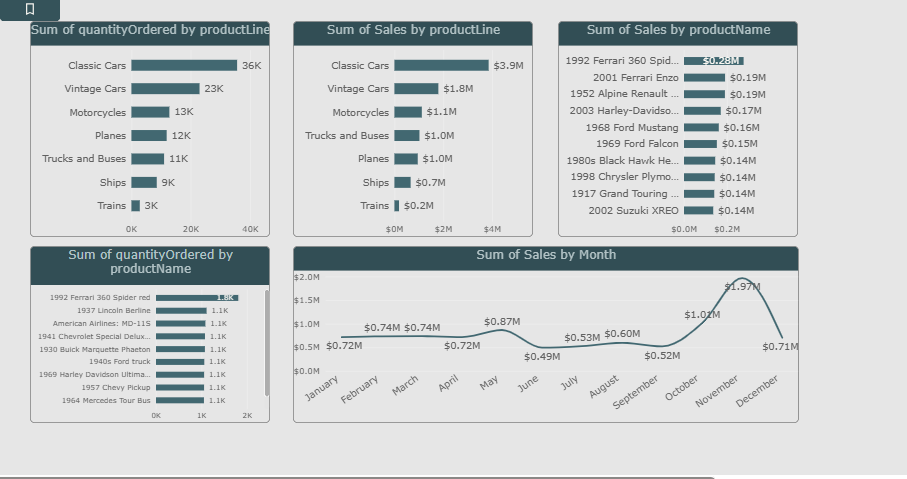

The page's visual inventory and layout, read from the dashboard file:
{"tool":"powerbi","page":{"name":"Page 4","canvas":[1920,1080],"ordinal":3},"visuals":[{"type":"barChart","fields":{"Category":["productlines.productLine"],"Y":["Sum(order details.quantityOrdered)"]},"box":[50.8,40,400,360],"z":0},{"type":"barChart","fields":{"Category":["productlines.productLine"],"Y":["Sum(order details.Sales)"]},"box":[487.7,40,400,360],"z":1},{"type":"barChart","fields":{"Category":["products.productName"],"Y":["Sum(order details.Sales)"]},"box":[930.8,40,400,360],"z":2},{"type":"barChart","fields":{"Category":["products.productName"],"Y":["Sum(order details.quantityOrdered)"]},"box":[50.8,415.4,400,295.4],"z":3},{"type":"lineChart","fields":{"Category":["orders.orderDate.Variation.Date Hierarchy.Year","orders.orderDate.Variation.Date Hierarchy.Quarter","orders.orderDate.Variation.Date Hierarchy.Month","orders.orderDate.Variation.Date Hierarchy.Day"],"Y":["Sum(order details.Sales)"]},"box":[487.7,415.4,843.1,295.4],"z":4},{"type":"actionButton","box":[0,0,100,40],"z":5}]}

Visuals, with their boxes on the page's 1920x1080 design canvas (x1, y1, x2, y2). These are canvas units, not pixel positions in the 907x479 screenshot, which may show the page scaled, cropped or inside an application window:
barChart - productlines.productLine x Sum(order details.quantityOrdered): region(51, 40, 451, 400)
barChart - productlines.productLine x Sum(order details.Sales): region(488, 40, 888, 400)
barChart - products.productName x Sum(order details.Sales): region(931, 40, 1331, 400)
barChart - products.productName x Sum(order details.quantityOrdered): region(51, 415, 451, 711)
lineChart - orders.orderDate.Variation.Date Hierarchy.Year x orders.orderDate.Variation.Date Hierarchy.Quarter: region(488, 415, 1331, 711)
actionButton: region(0, 0, 100, 40)
